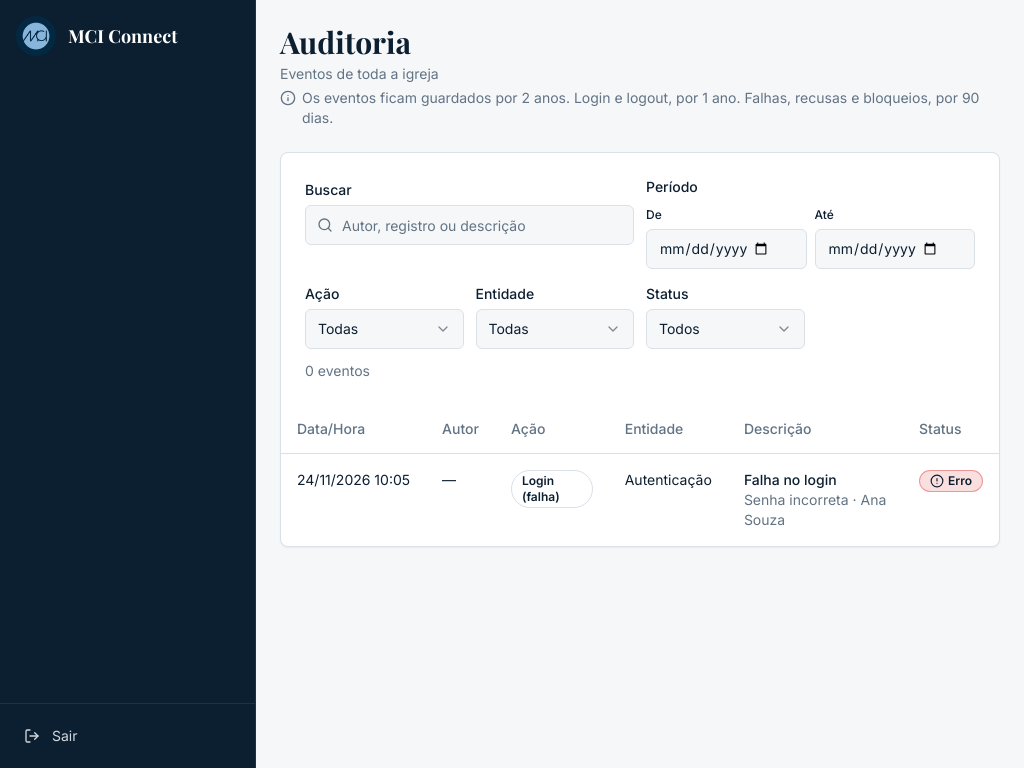
Test case: UX-17: painel do evento de autenticação › falha com cadastro: mostra Cadastro, Motivo, Tipo de identificação e Identificação (mascarada), sem Metadados nem Erro
Click the row that starts with "Login (falha)".
click(354, 479)  # box 281,453 -> 999,546
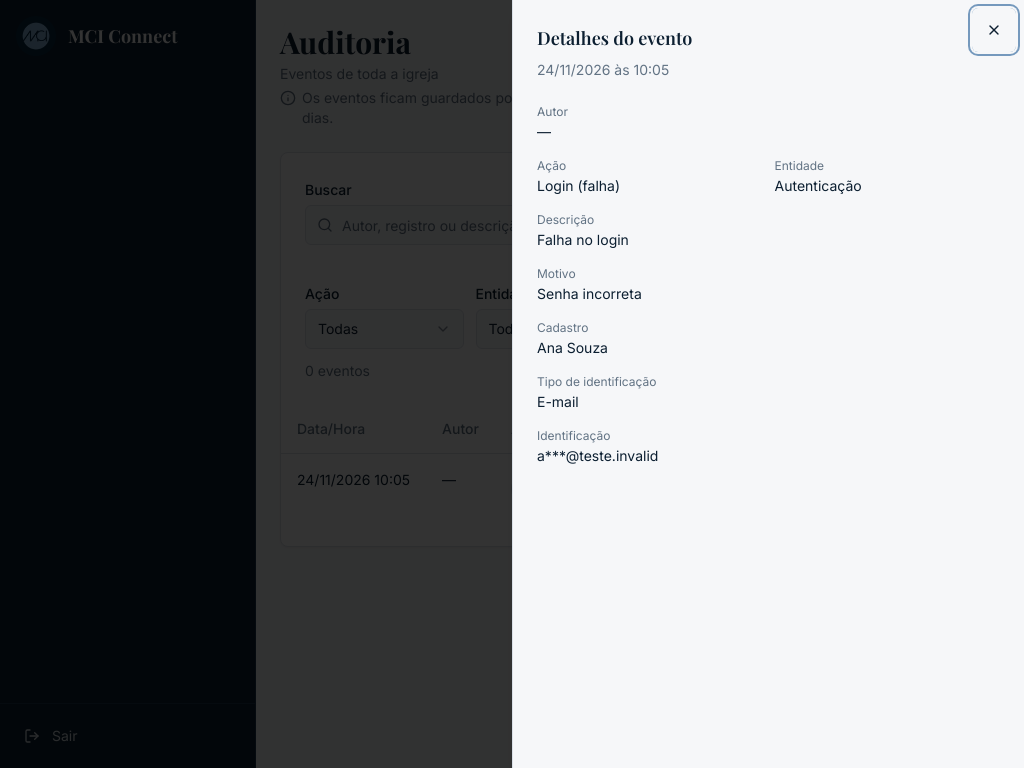
Now the text "Cadastro" is shown, box 537,320 -> 588,335
Now the text "Ana Souza" is shown, box 537,339 -> 608,356
Now the text "Motivo" is shown, box 537,266 -> 576,281
